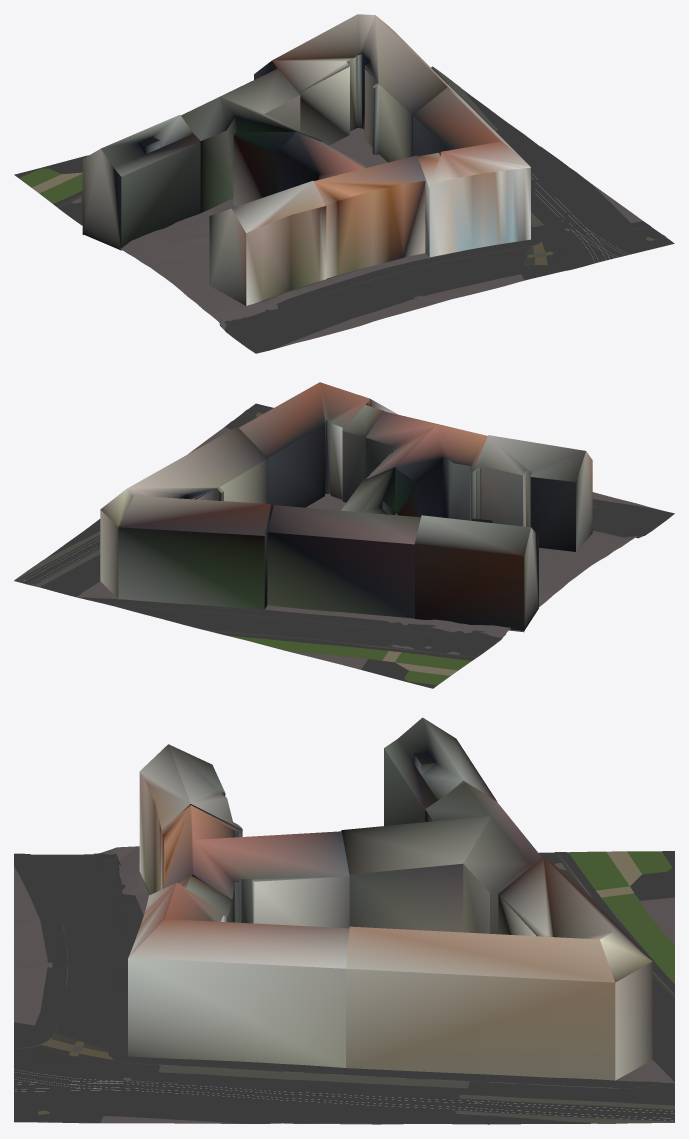
3 views of the same model, one above another, from view 1: azimuth 30°, elevation 25°; view 2: azimuth 150°, elevation 25°; view 3: azimuth 270°, elevation 25° (orthographic). The views are drawn at different scales.
Parts seen in each view (by area): view 1: c_m14_m06; view 2: c_m14_m06; view 3: c_m14_m06.
Boxes of the visible parts, x1=… form: c_m14_m06: x1=14, y1=14, x2=674, y2=353; c_m14_m06: x1=14, y1=382, x2=674, y2=688; c_m14_m06: x1=14, y1=717, x2=674, y2=1124.
Bounding box in the file's own units: 131 × 29.46 × 128.
